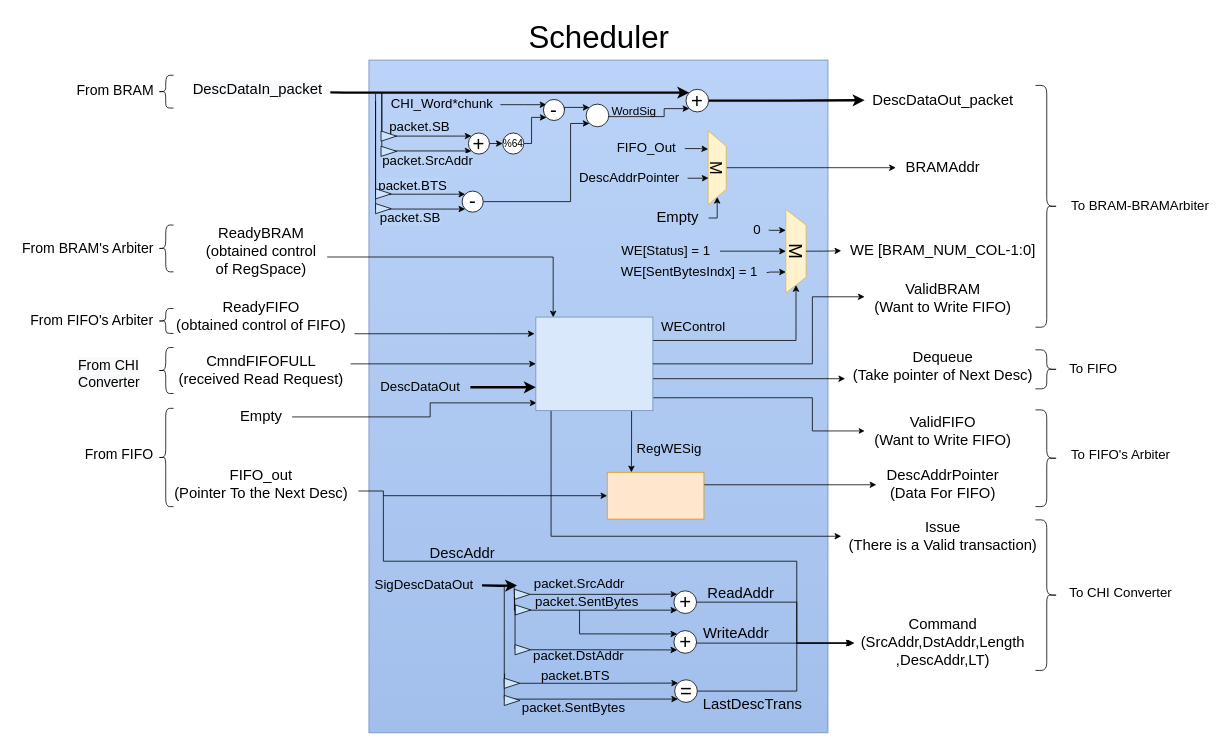
This 1232x746 diagram has some shape labels left out. The centre of each missing label's shape, as x and y in pixels:
FSM: point 594,363
min: point 597,115
REGISTER (keepAddr FromFIFO): point 655,495
